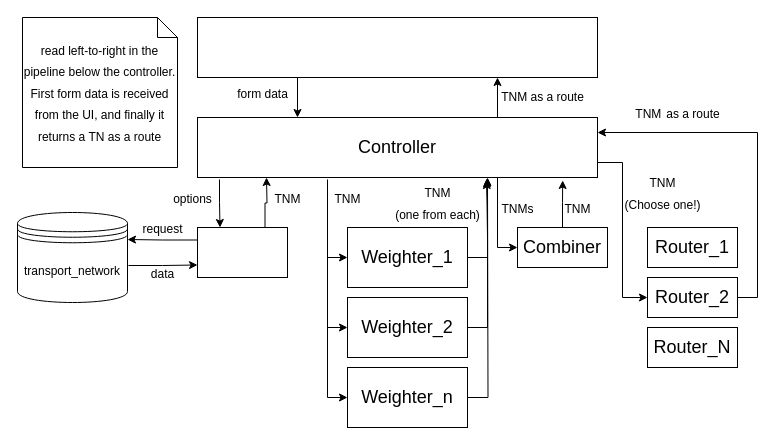
Image size: 783x445. Some labels were removed from this diagram. Here are the shapes that lost their labels. From the top down, the centre of each, then its label:
At pixel 397 47: "UI".
At pixel 242 252: "Creator".
